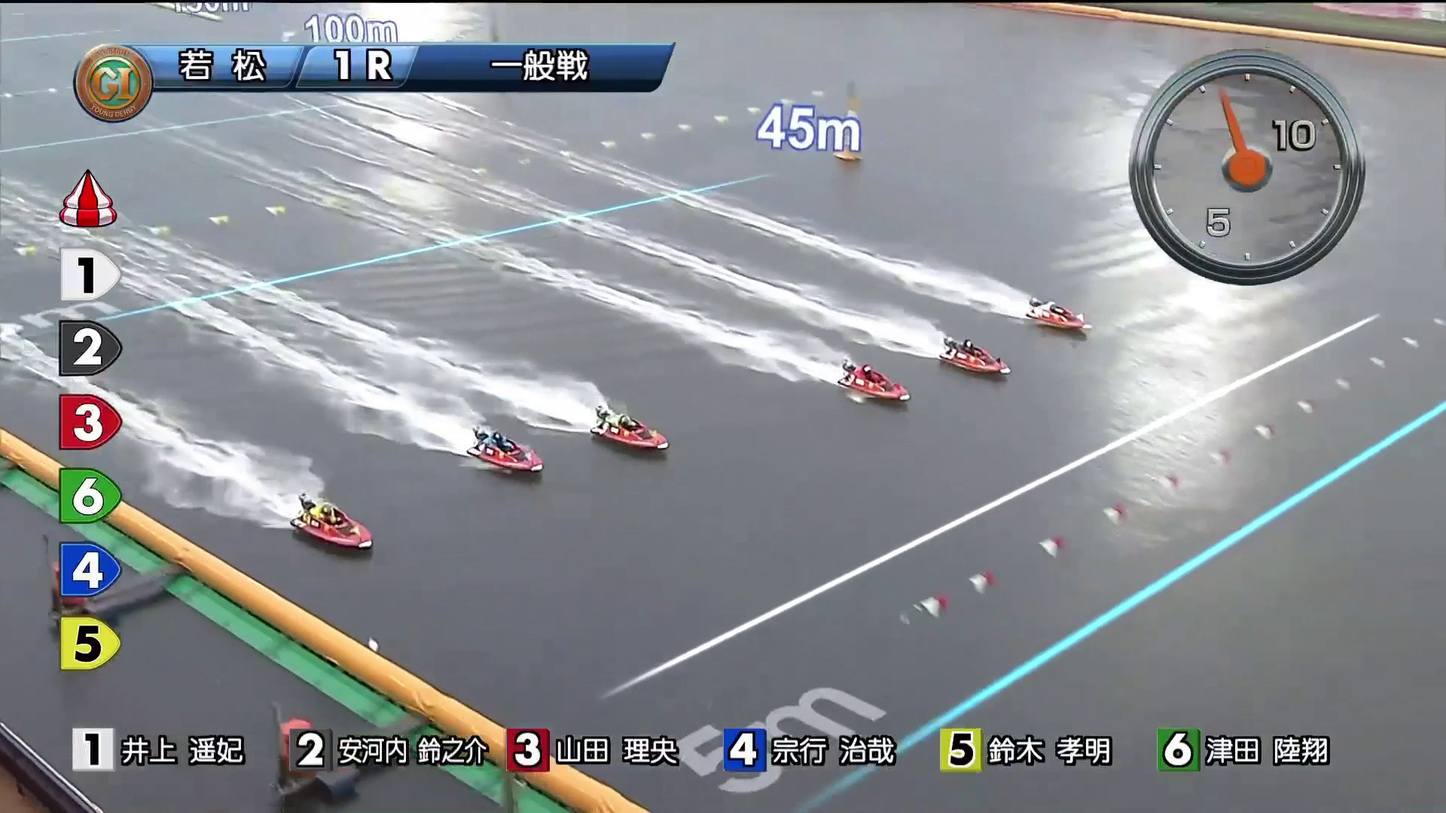１号艇: (1011, 284, 1075, 331)
２号艇: (943, 330, 1005, 368)
３号艇: (841, 356, 896, 398)
４号艇: (603, 410, 666, 453)
５号艇: (477, 446, 546, 484)
６号艇: (326, 531, 391, 577)
